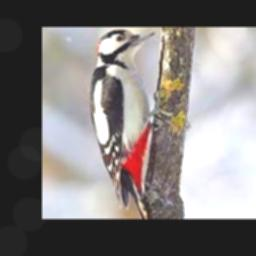Woodpecker: (89, 29, 168, 219)
